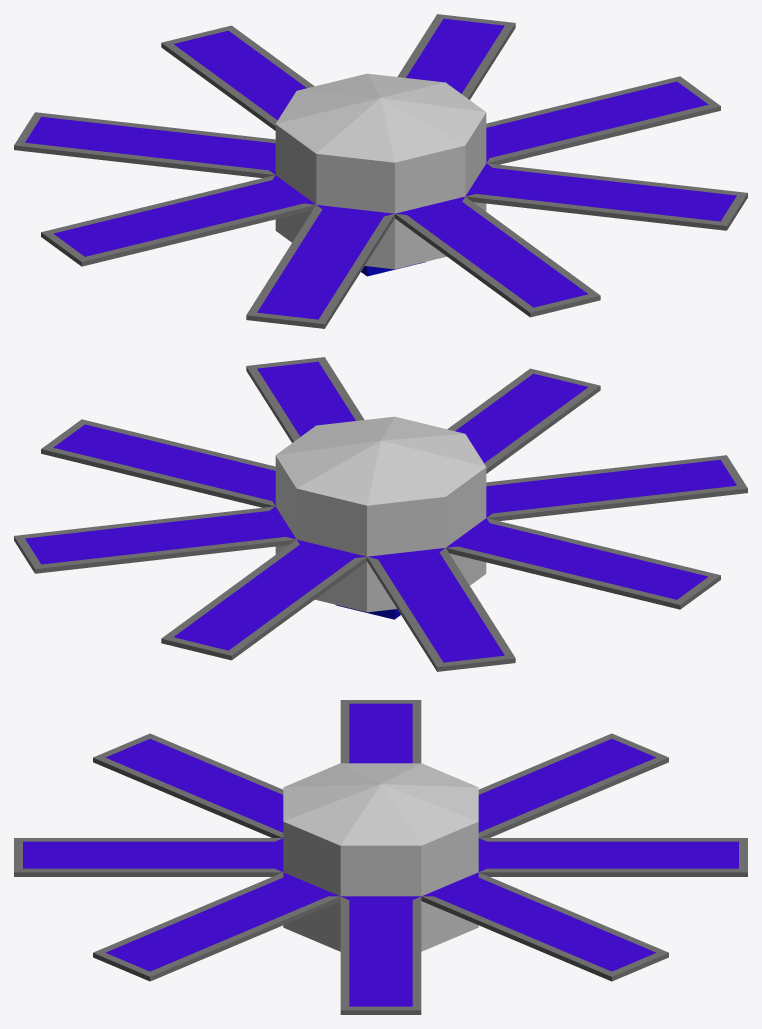
File: Solar_Octo.obj
3 renders of one model, top to bottom at view 1: azimuth 30°, elevation 25°; view 2: azimuth 150°, elevation 25°; view 3: azimuth 270°, elevation 25°, orthographic.
Parts seen in each view (by area): view 1: Cylinder_Cylinder.001; view 2: Cylinder_Cylinder.001; view 3: Cylinder_Cylinder.001.
Boxes of the visible parts, x1=… form: Cylinder_Cylinder.001: x1=14, y1=14, x2=747, y2=328; Cylinder_Cylinder.001: x1=14, y1=357, x2=747, y2=671; Cylinder_Cylinder.001: x1=14, y1=700, x2=747, y2=1014.
Bounding box in the file's own units: 5.89 × 1.4 × 5.89.
